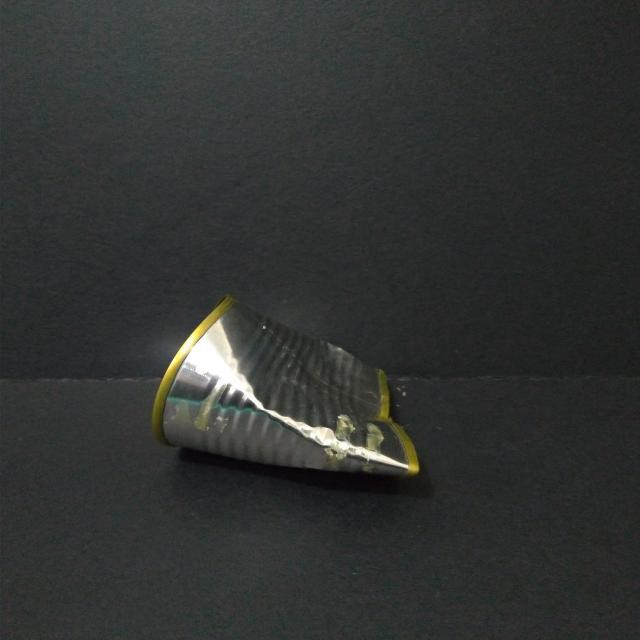metal-can: (147, 292, 428, 486)
